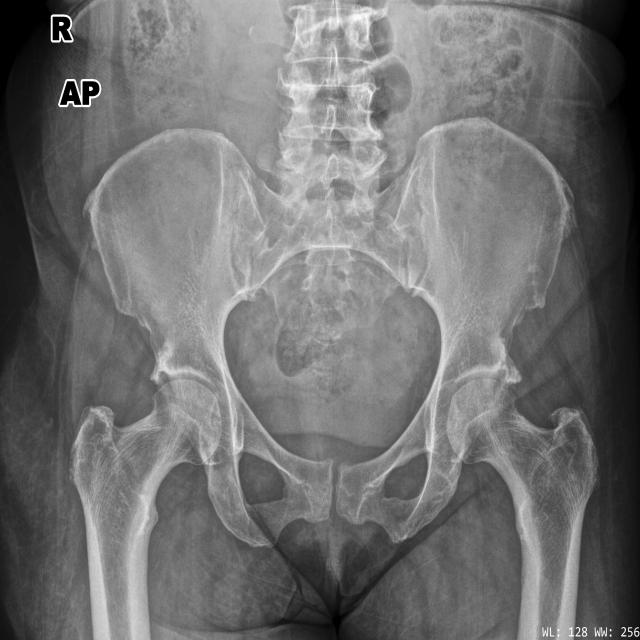normal-left: (447, 378, 600, 640)
normal-right: (68, 379, 222, 640)
